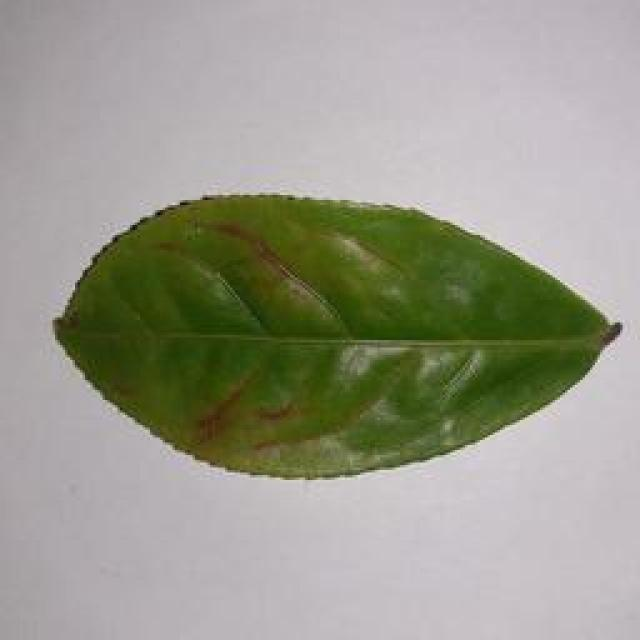Red Leaf Spot: (47, 181, 629, 486)
